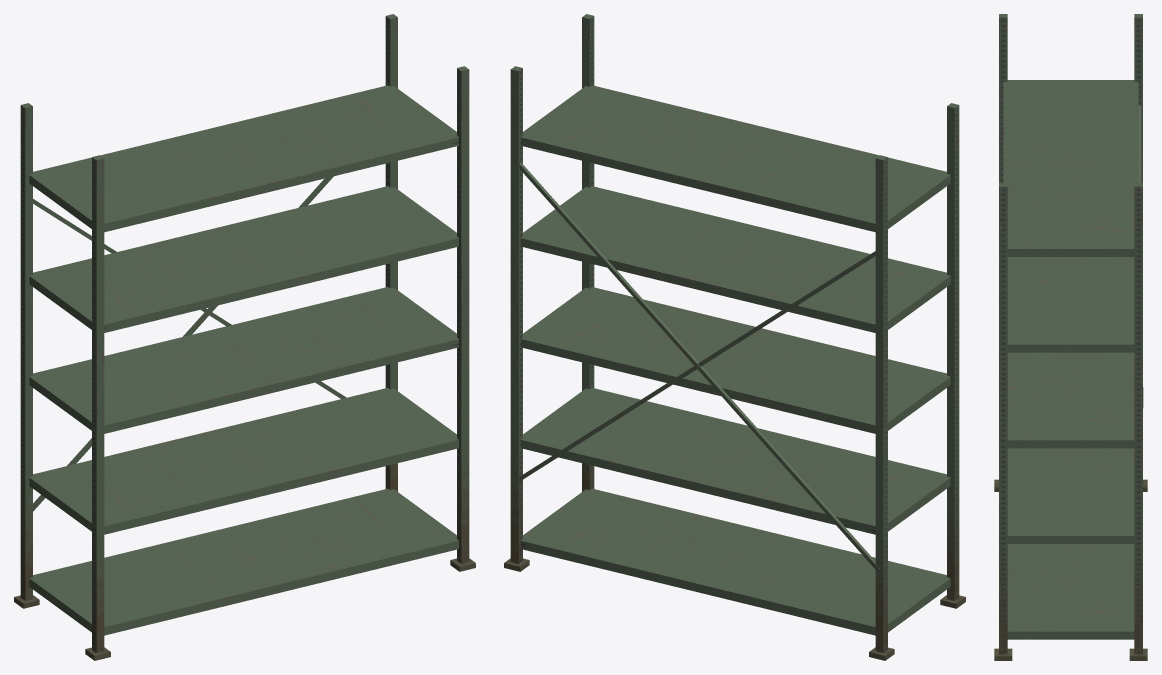
Rendered from Shelf.fbx.
The picture shows the model from 3 angles, left to right: view 1: azimuth 30°, elevation 25°; view 2: azimuth 150°, elevation 25°; view 3: azimuth 270°, elevation 25°; orthographic projection. The views are drawn at different scales.
Parts seen in each view (by area): view 1: Cube.024; view 2: Cube.024; view 3: Cube.024.
Boxes of the visible parts, x1=… form: Cube.024: x1=14, y1=14, x2=475, y2=660; Cube.024: x1=504, y1=14, x2=965, y2=660; Cube.024: x1=994, y1=14, x2=1147, y2=660.
Bounding box in the file's own units: 1.54 × 1.93 × 0.5658.
